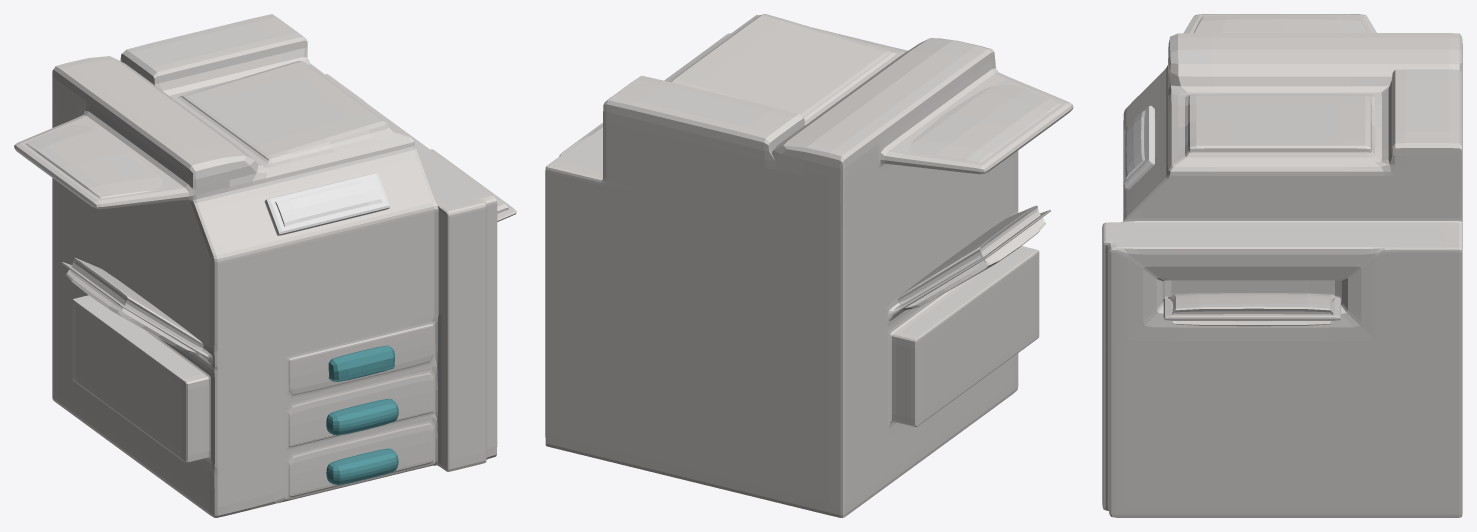
Rendered from Office_Printer.fbx.
3 renders of one model, left to right at view 1: azimuth 30°, elevation 25°; view 2: azimuth 150°, elevation 25°; view 3: azimuth 270°, elevation 25°, orthographic. The views are drawn at different scales.
Visible parts, largest first — view 1: Cube; view 2: Cube; view 3: Cube.
Part boxes in pixels (<box>): Cube: <box>14,14,516,517</box>; Cube: <box>545,14,1073,517</box>; Cube: <box>1102,14,1462,517</box>.
Bounding box in the file's own units: 362 × 285 × 268.
